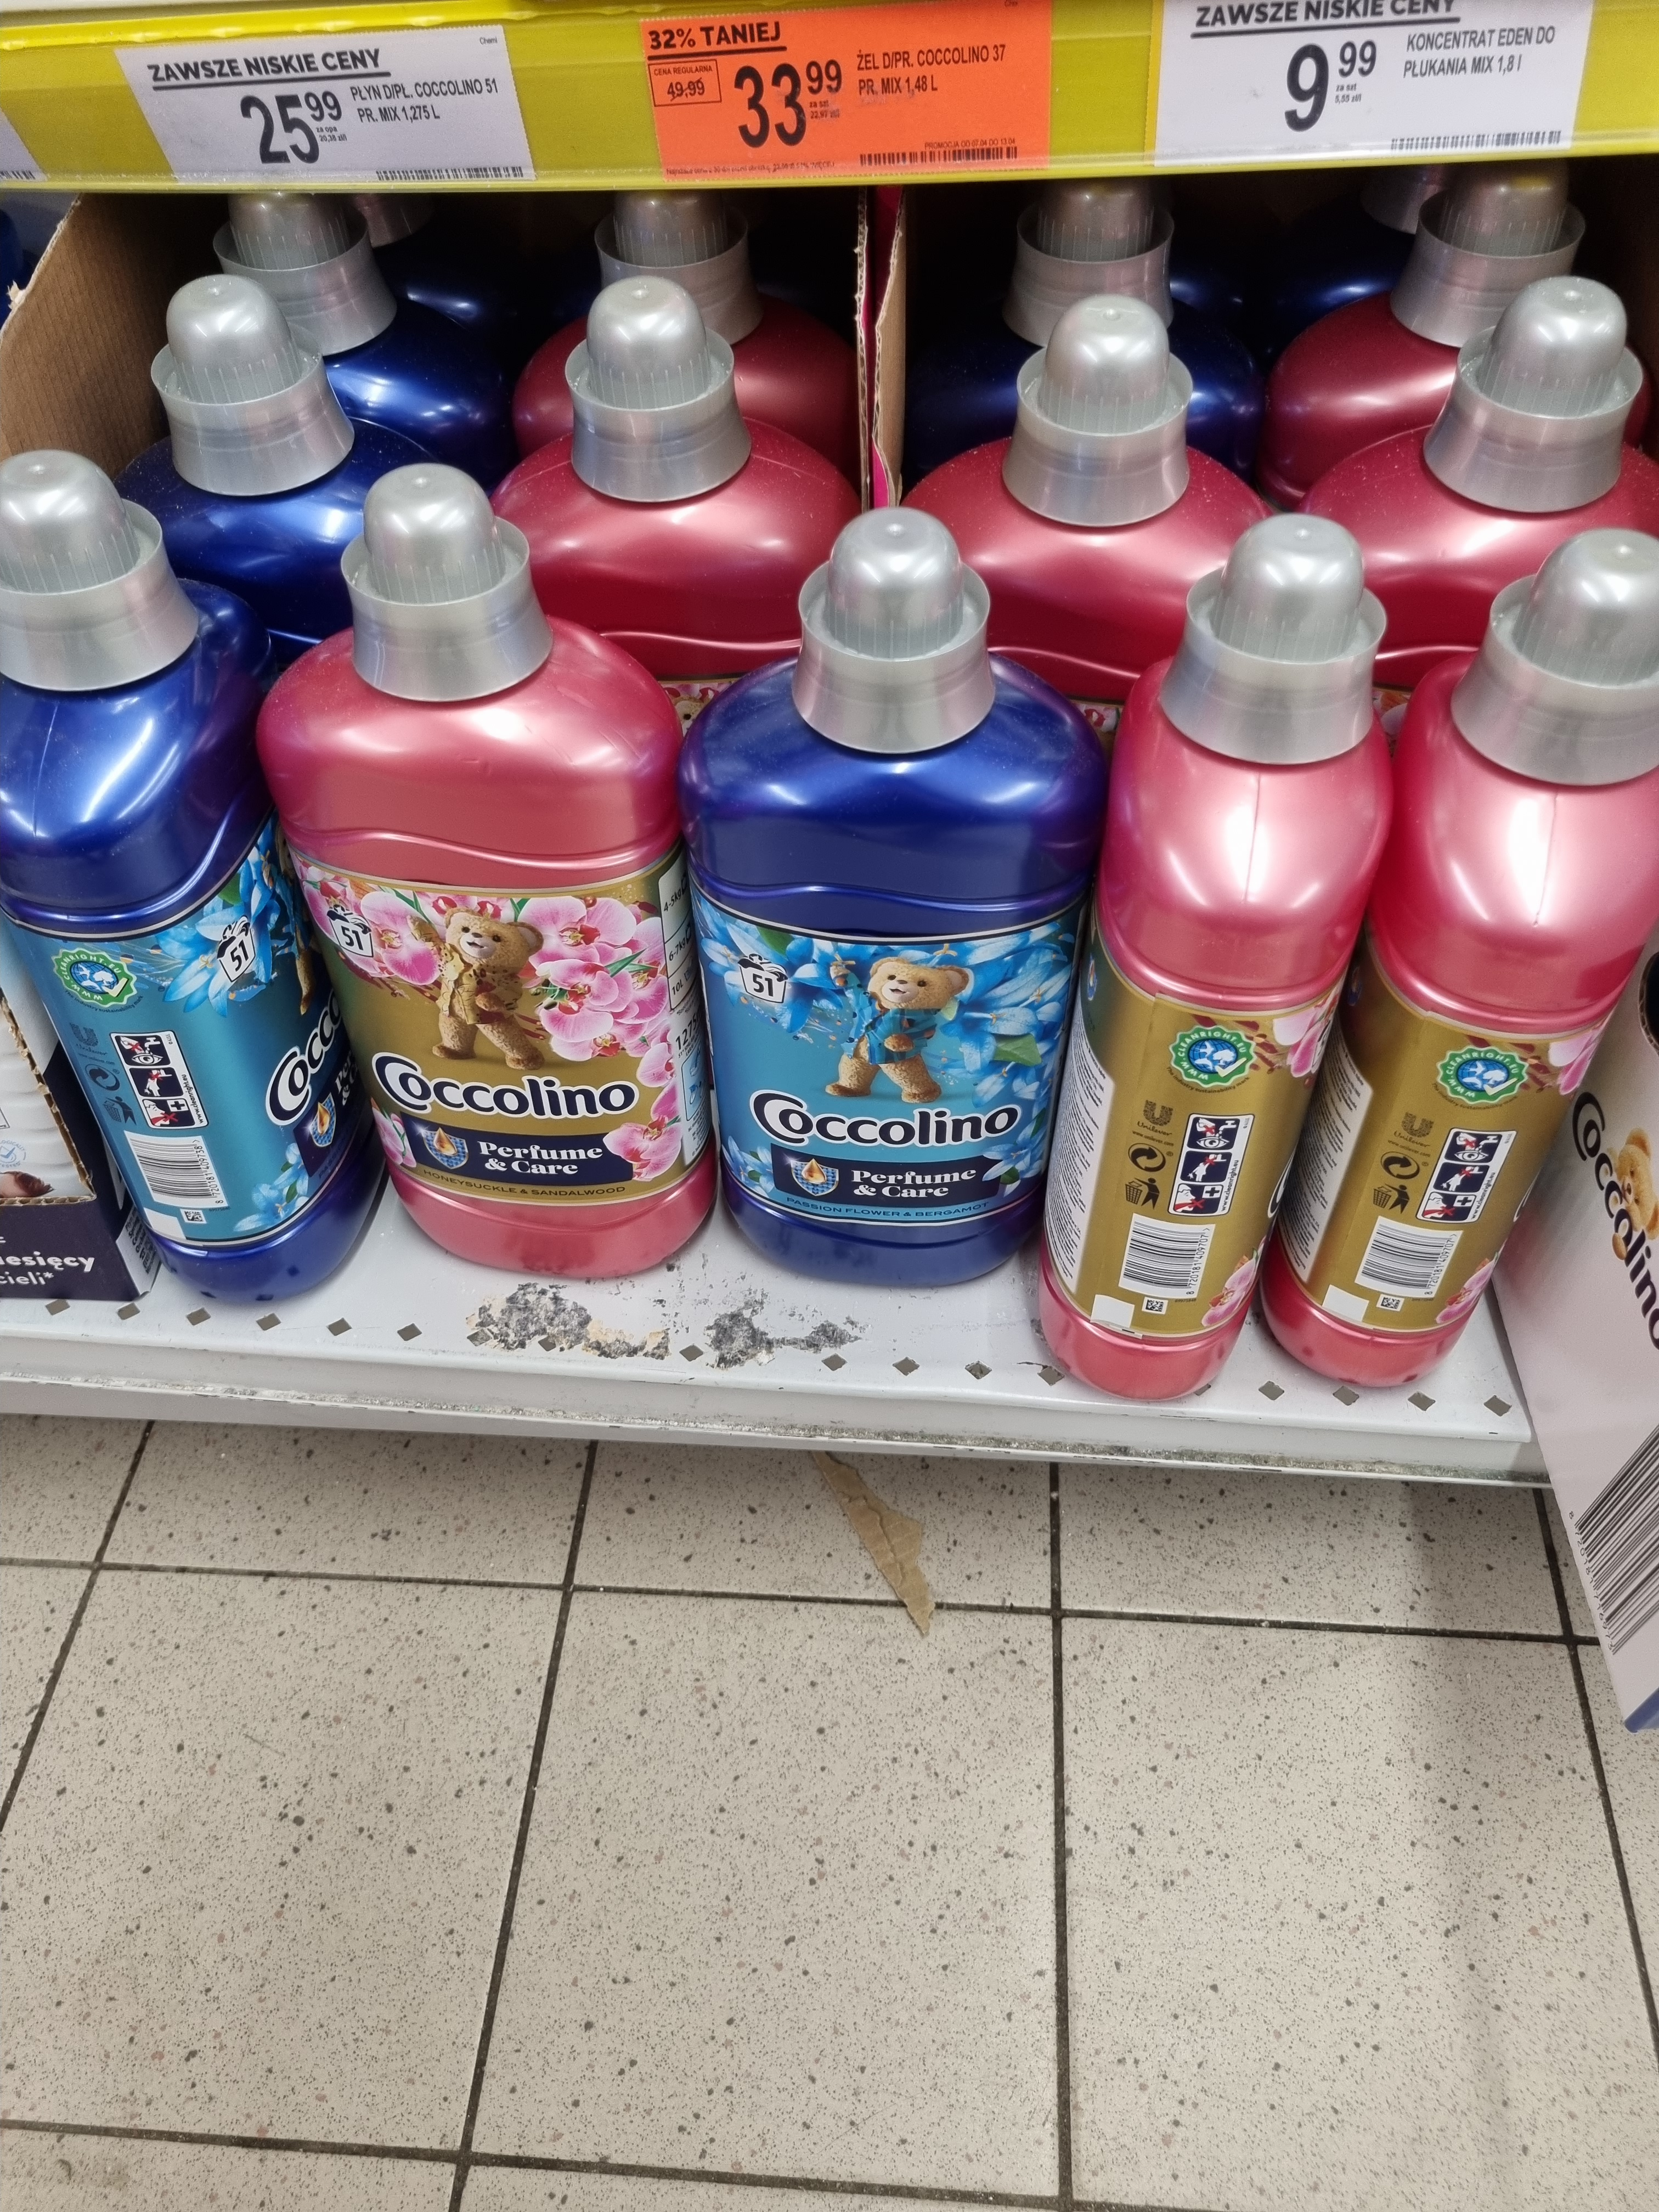cocolino: (1263, 624, 1659, 1378), (254, 620, 685, 1287), (5, 571, 368, 1303), (871, 434, 1316, 1024), (1051, 667, 1371, 1411), (483, 437, 864, 1024), (685, 686, 1061, 1277), (120, 275, 507, 826), (1258, 300, 1659, 808), (1276, 428, 1659, 946), (98, 462, 474, 981), (894, 324, 1281, 819), (484, 308, 880, 758)
